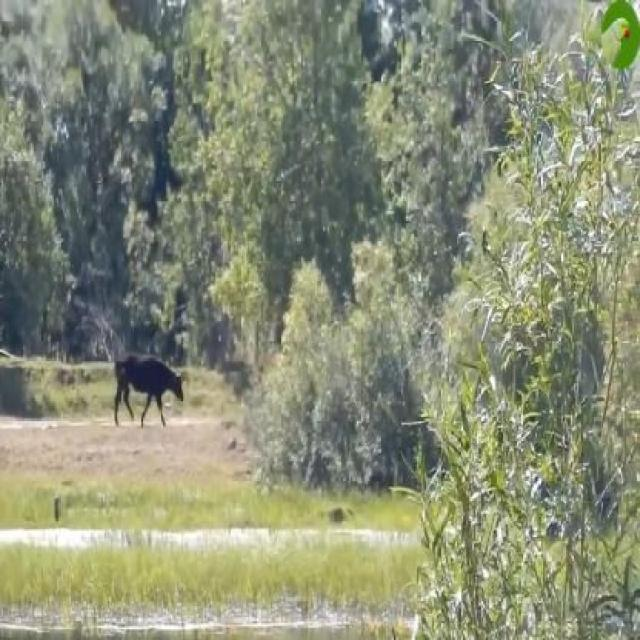Cow: (114, 357, 186, 431)
